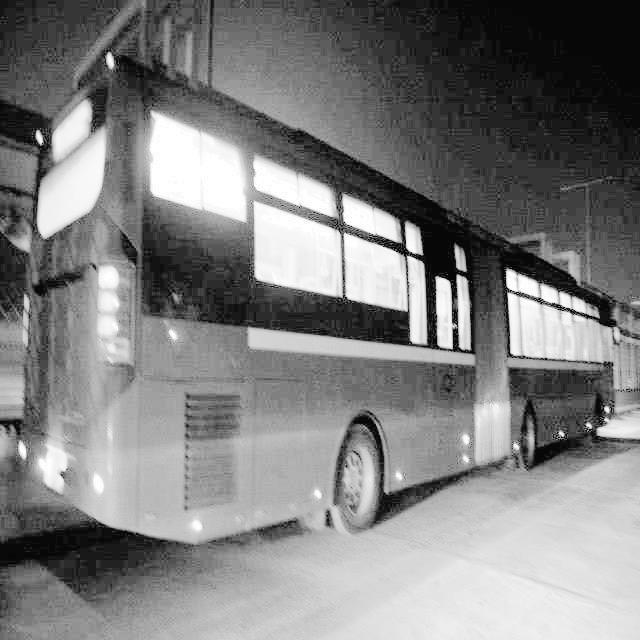Bus: (28, 49, 622, 557)
